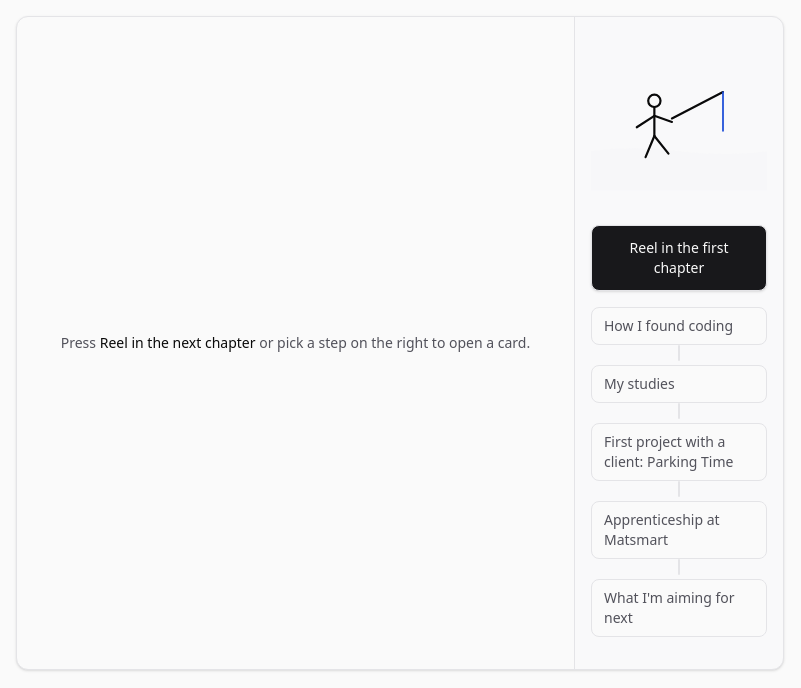
Test case: AboutFishingJourney › advances to the next chapter when clicking reel again
This screenshot has width=801, height=688.
Step 1. Click the button "Reel in the first chapter" → (679, 258), box [591,225,767,291]
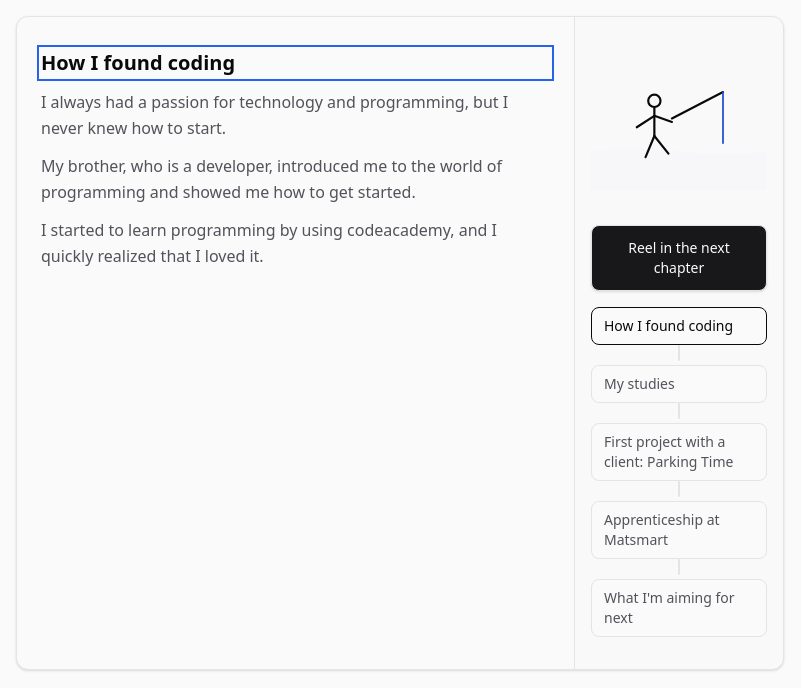
Step 2. Click the button "Reel in the next chapter" → (679, 258), box [591,225,767,291]
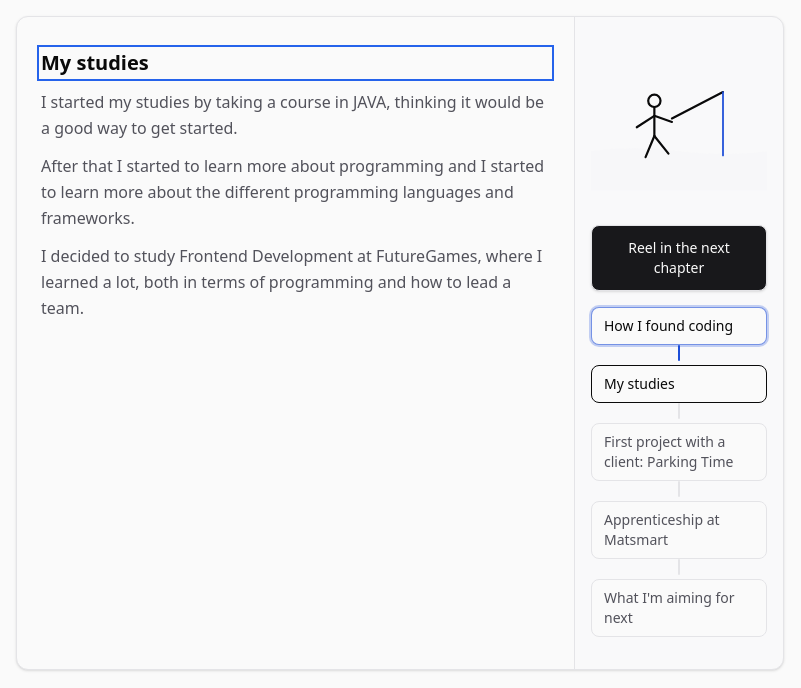
Expected: the heading "My studies" is shown, [41,49,149,76]
